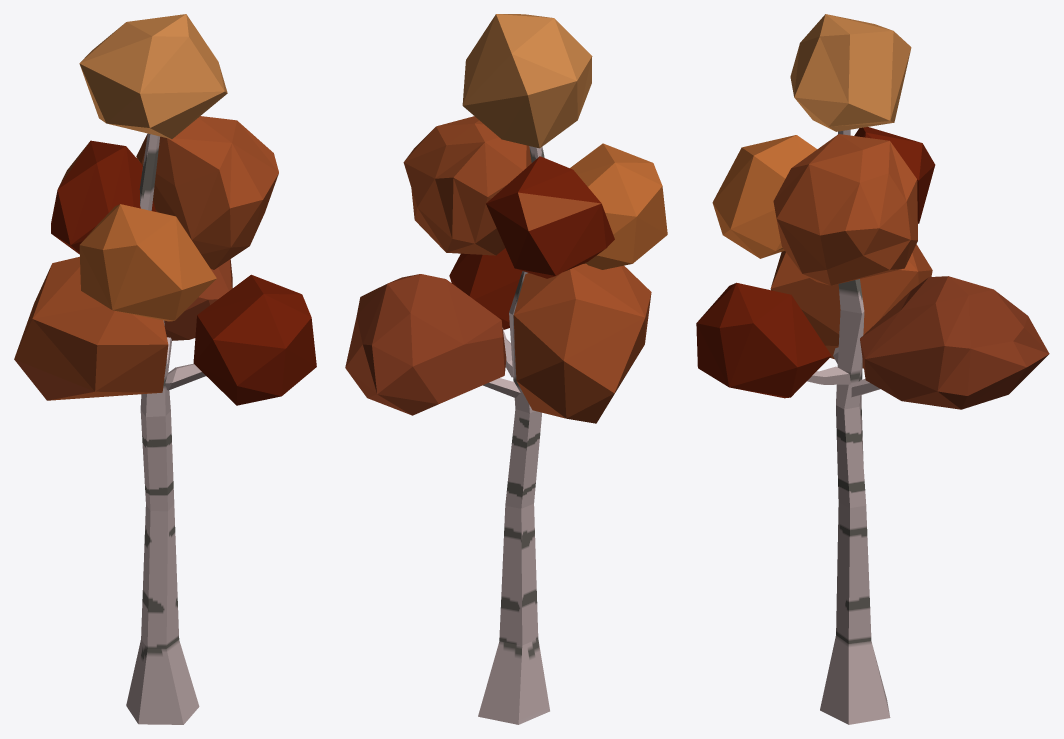
The model's file is Arbol_fall.obj.
The picture shows the model from 3 angles, left to right: view 1: azimuth 30°, elevation 25°; view 2: azimuth 150°, elevation 25°; view 3: azimuth 270°, elevation 25°; orthographic projection.
Visible parts, largest first — view 1: Icosphere.002; view 2: Icosphere.002; view 3: Icosphere.002.
Part boxes in pixels (x1=…): Icosphere.002: x1=14, y1=14, x2=316, y2=724; Icosphere.002: x1=345, y1=14, x2=667, y2=724; Icosphere.002: x1=696, y1=14, x2=1049, y2=724.
Size of the model in its own units: 4.32 by 11.8 by 5.52.
